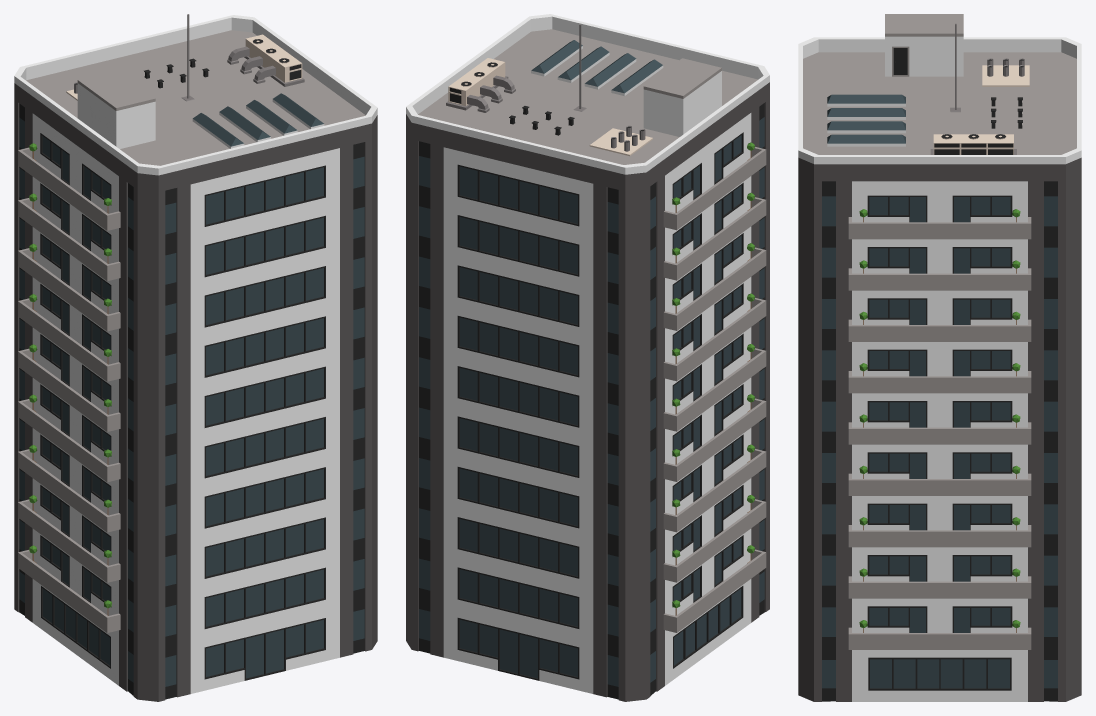
The model's file is buildings_building-office-balcony.fbx.
3 views of the same model, side by side, from view 1: azimuth 30°, elevation 25°; view 2: azimuth 150°, elevation 25°; view 3: azimuth 270°, elevation 25° (orthographic). The views are drawn at different scales.
Parts seen in each view (by area): view 1: buildings_building_office_balcony; view 2: buildings_building_office_balcony; view 3: buildings_building_office_balcony.
Part boxes in pixels (bbox=[...]): buildings_building_office_balcony: bbox=[14, 14, 377, 701]; buildings_building_office_balcony: bbox=[406, 14, 769, 701]; buildings_building_office_balcony: bbox=[798, 14, 1081, 701].
Size of the model in its own units: 92.31 by 200 by 83.08.
